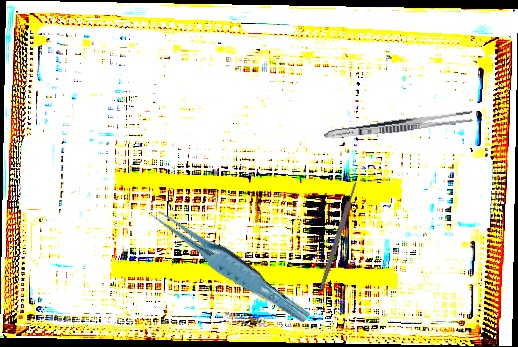Dressing Forceps: (323, 108, 475, 143)
Scalpel Handle: (318, 181, 359, 291)
Tissue Forceps: (148, 195, 312, 335)
